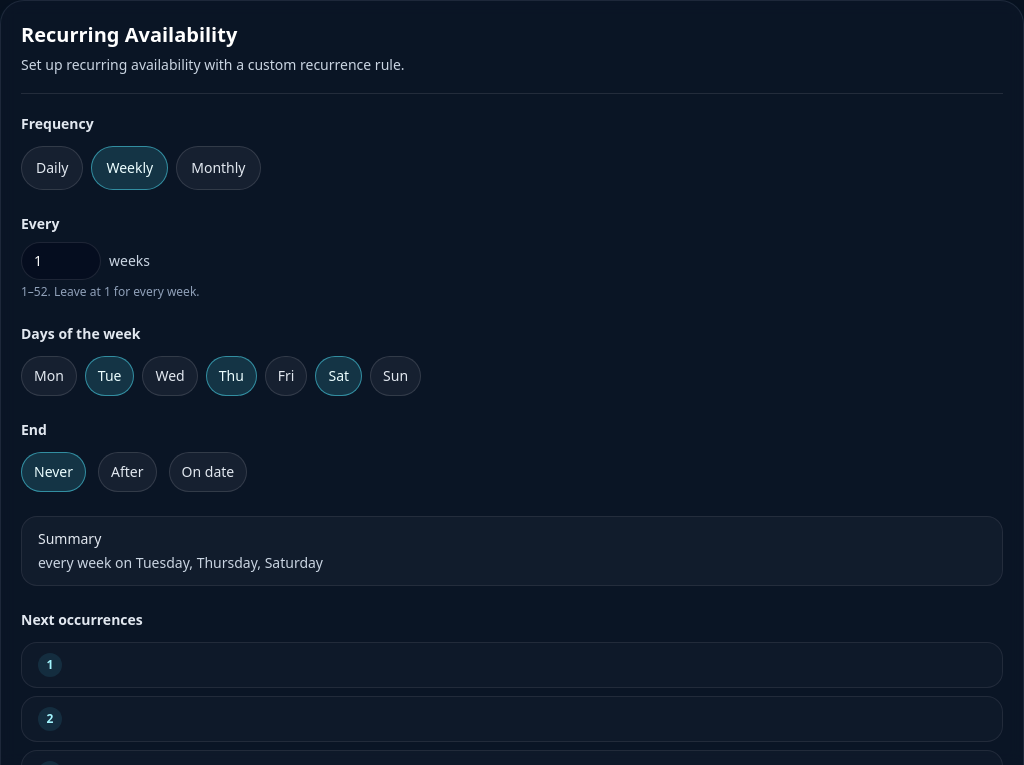
it: RecurringAvailabilityEditor › failure path: no weekday selected while frequency requires weekdays › shows the same null-rrule behaviour when frequency is monthly and no days are selected
Click the radio button labelled "Monthly" at (218, 168), box [176,146,260,190]
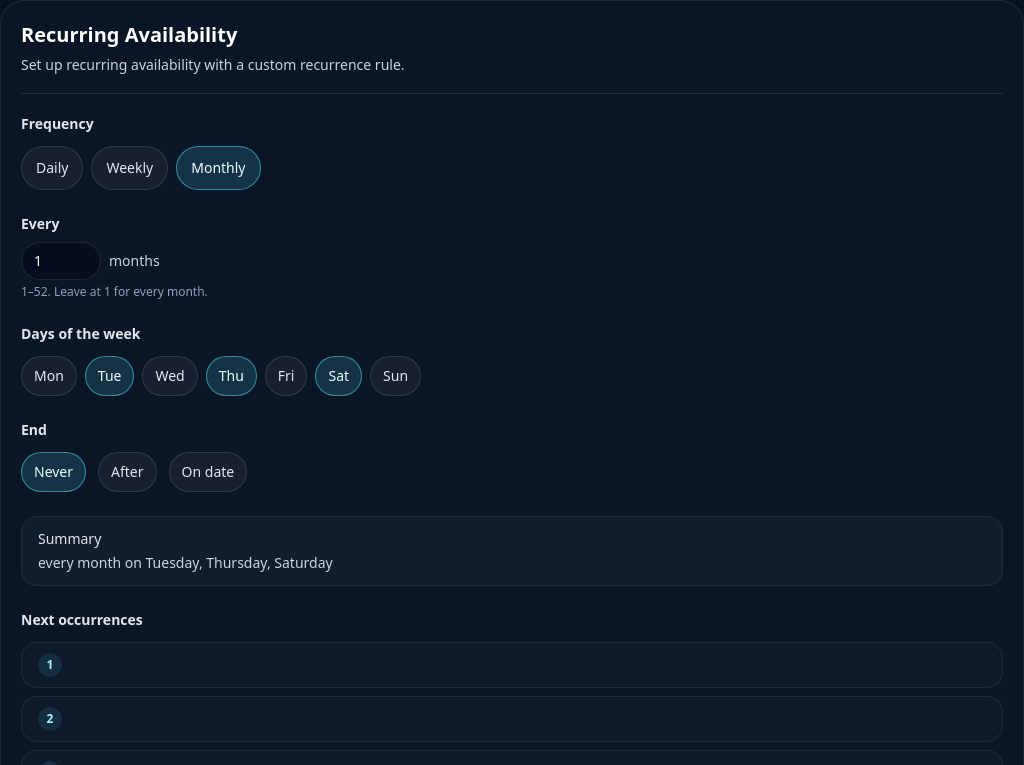
Click the checkbox labelled "Tue" at (110, 376), box [85,356,134,396]
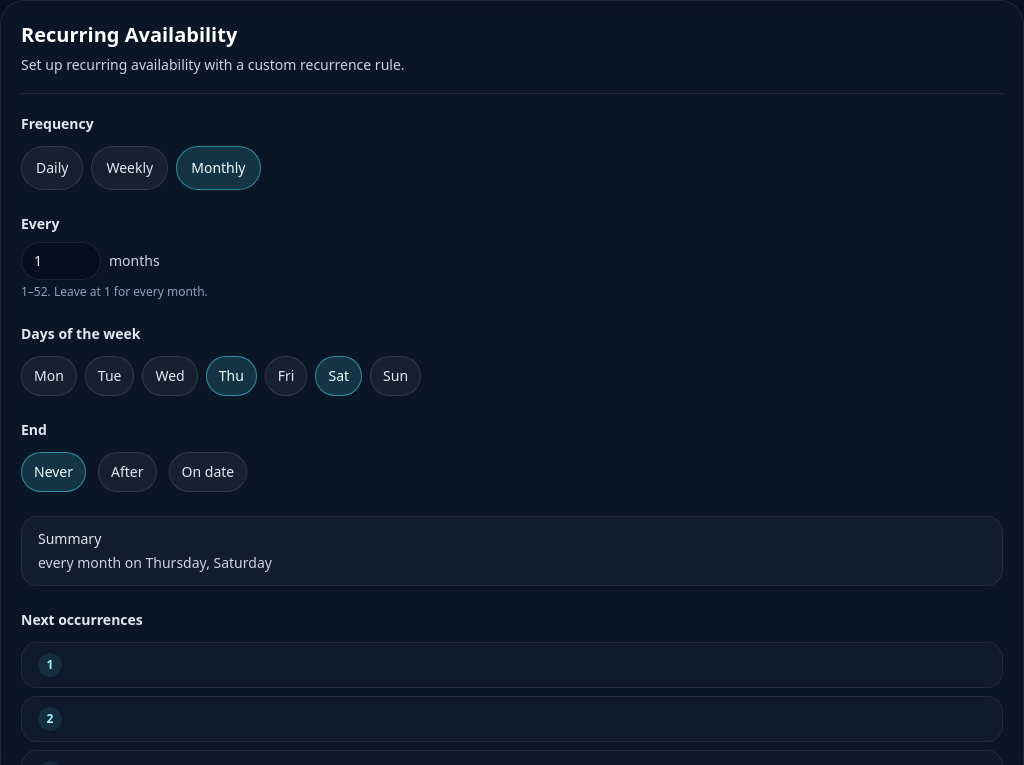
Click the checkbox labelled "Thu" at (231, 376), box [206,356,257,396]
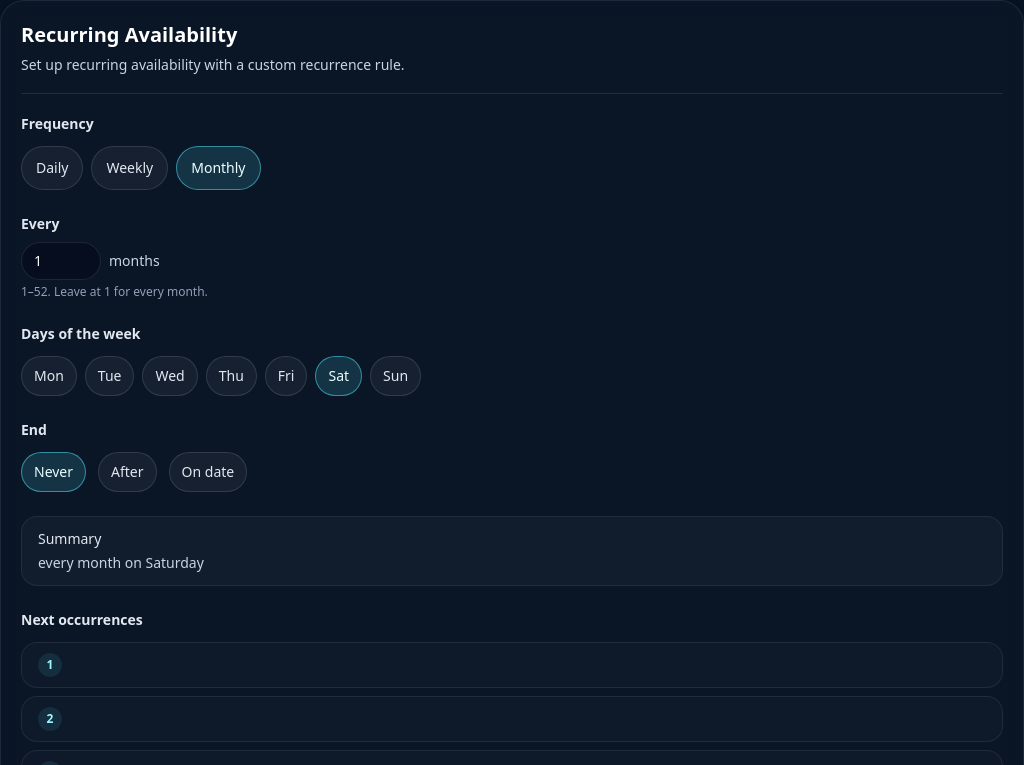
Click the checkbox labelled "Sat" at (339, 376), box [316,356,362,396]
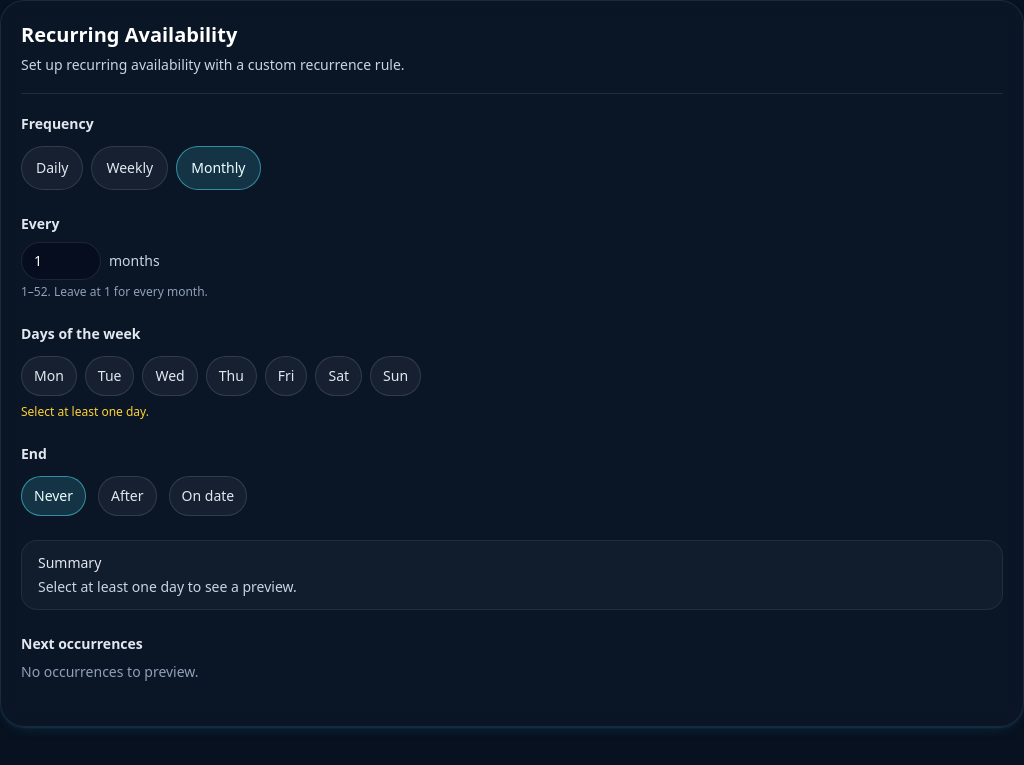
Expected: the message shows "Select at least one day", [21,403,149,420]
Expected: the text "Select at least one day to see a preview." is shown, [38,577,297,596]
Expected: the text "No occurrences to preview." is shown, [21,662,198,681]
